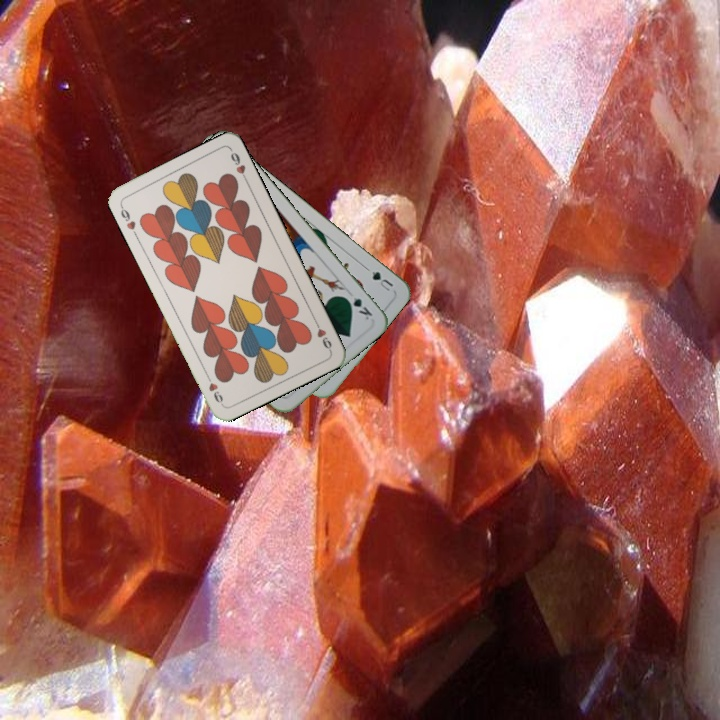GK: (341, 292, 375, 323)
GU: (368, 267, 396, 295)
H9: (310, 315, 334, 353), (116, 201, 140, 239)
